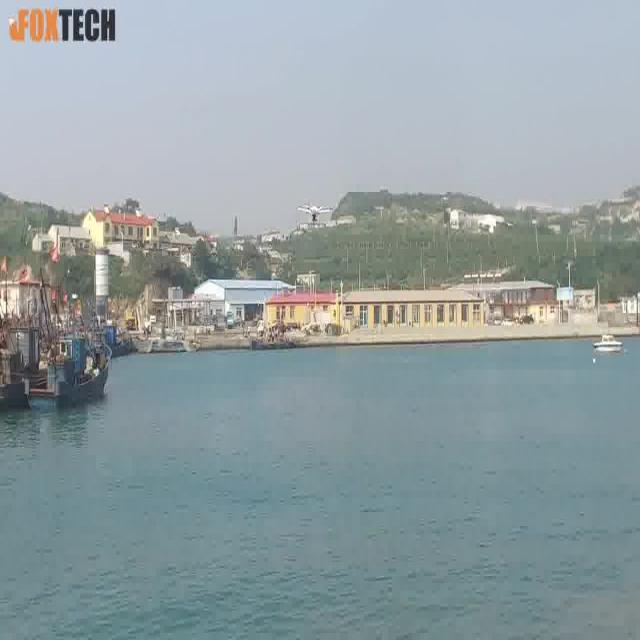drone: (295, 198, 337, 222)
